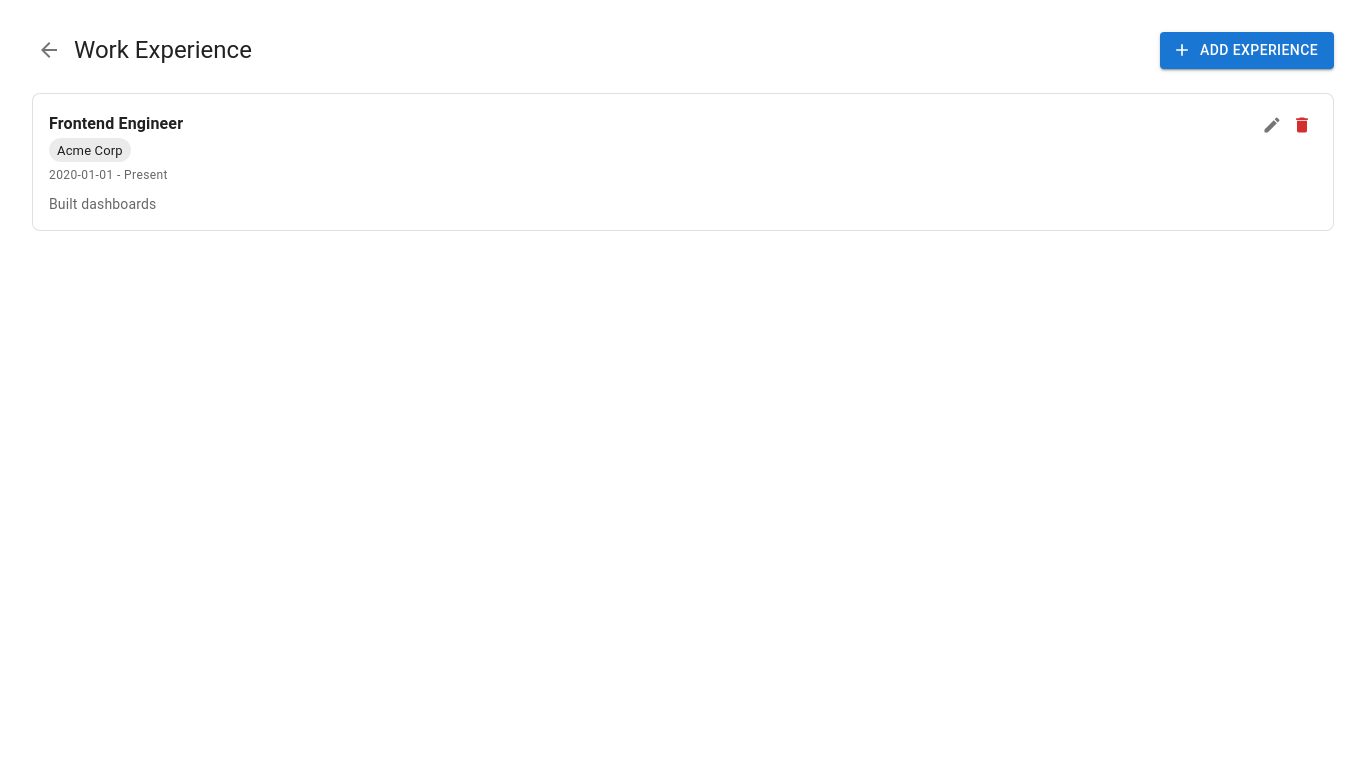
Test: WorkExperiencePage › shows Saving while the create mutation is pending
This screenshot has width=1366, height=768.
What coordinates should you click on to do the following:
click the button "Add Experience"
I would click on:
 (1247, 50)
Its box is [1160,32,1334,68].
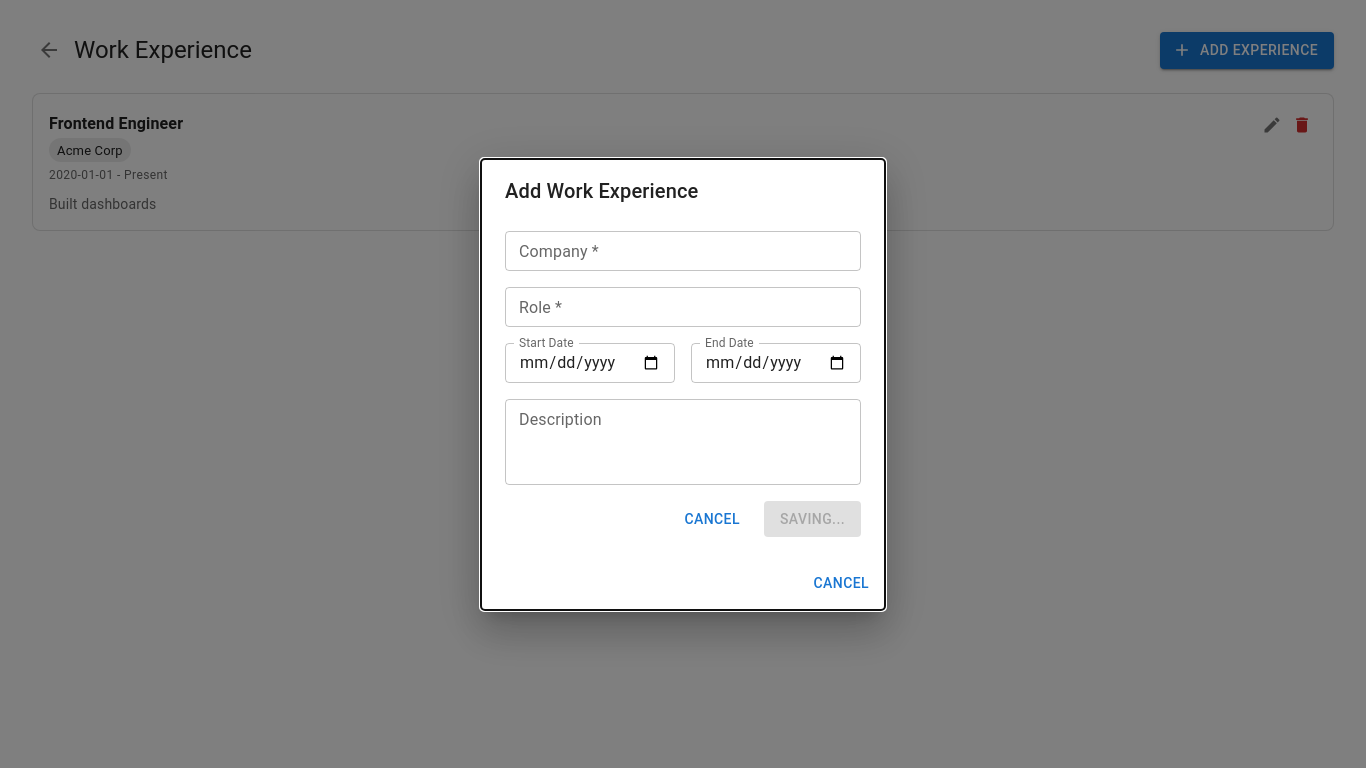
Result: the button "Saving..." is disabled at [764,500,861,537]
